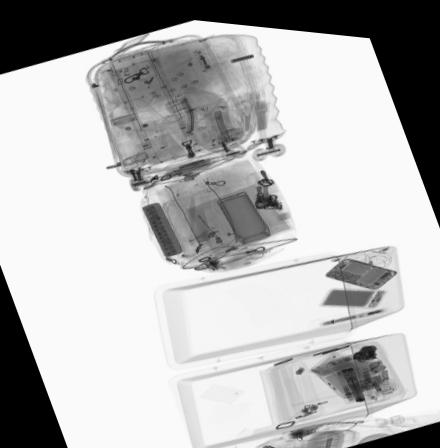Powerbank: (319, 279, 387, 299)
